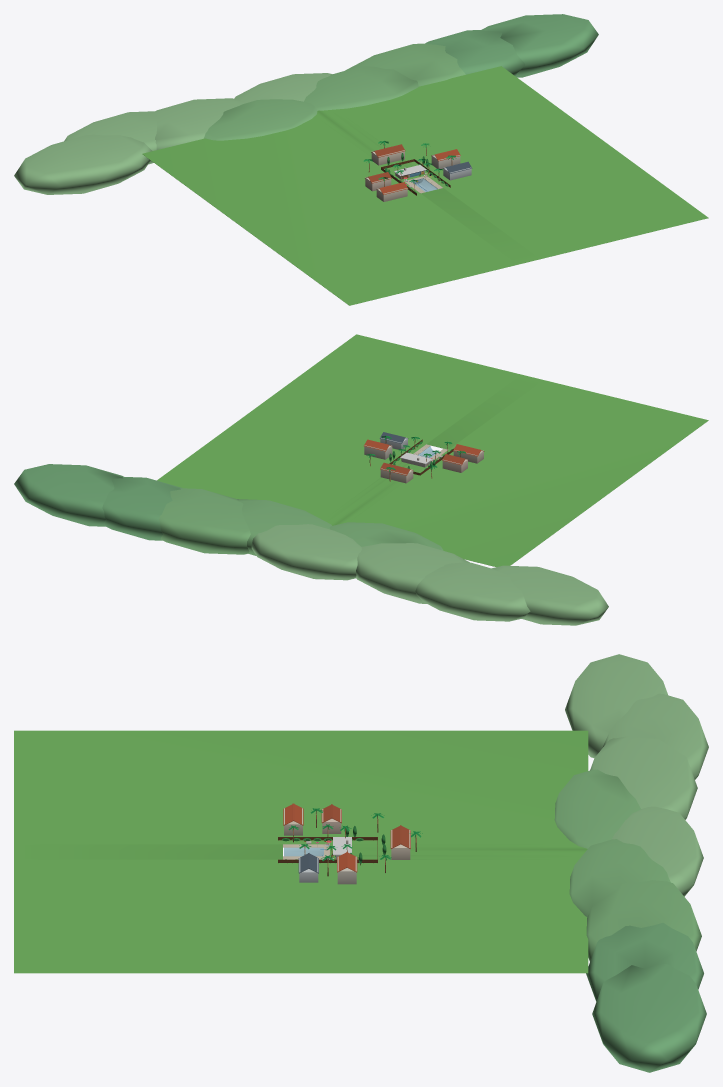
The model's file is venue-pool-uLV0sOJz.glb.
3 renders of one model, top to bottom at view 1: azimuth 30°, elevation 25°; view 2: azimuth 150°, elevation 25°; view 3: azimuth 270°, elevation 25°, orthographic. The views are drawn at different scales.
Visible parts, largest first — view 1: arena; view 2: arena; view 3: arena.
Boxes of the visible parts, left/top/right/bottom form: arena: left=14, top=14, right=708, bottom=305; arena: left=14, top=334, right=708, bottom=625; arena: left=14, top=654, right=708, bottom=1072.
Bounding box in the file's own units: 487 × 40.78 × 363.
